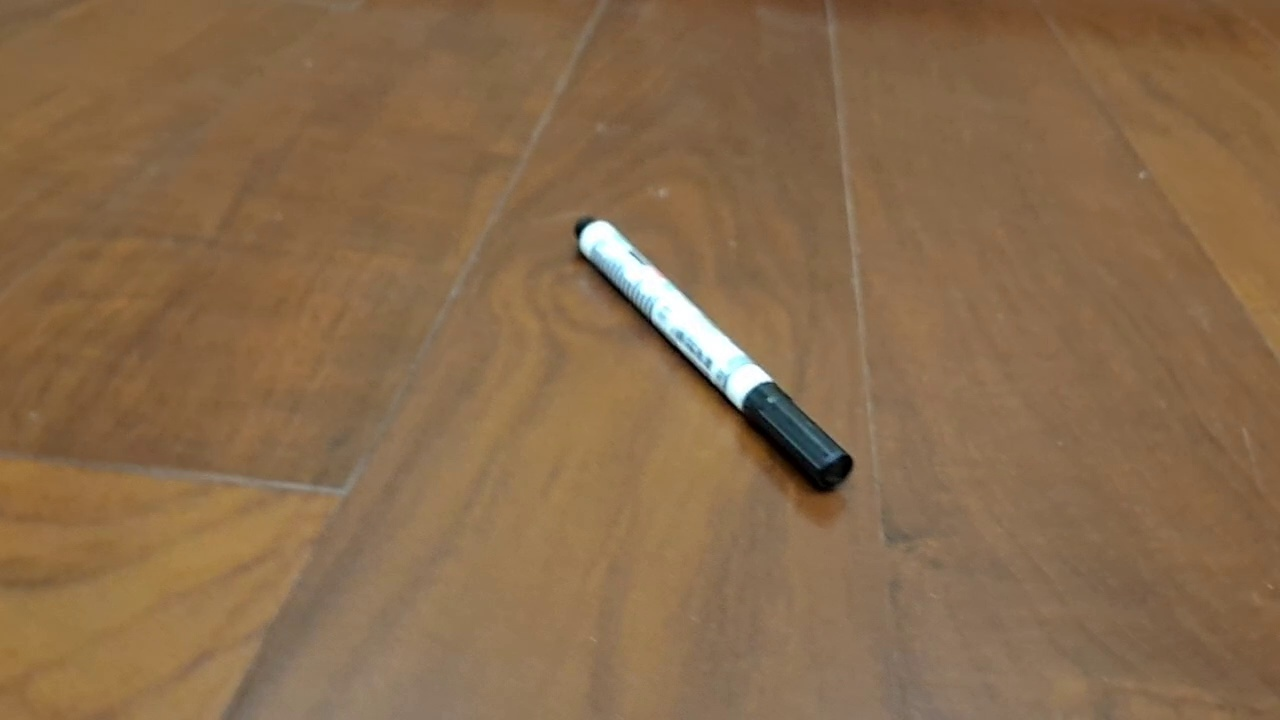pen: (573, 215, 855, 494)
